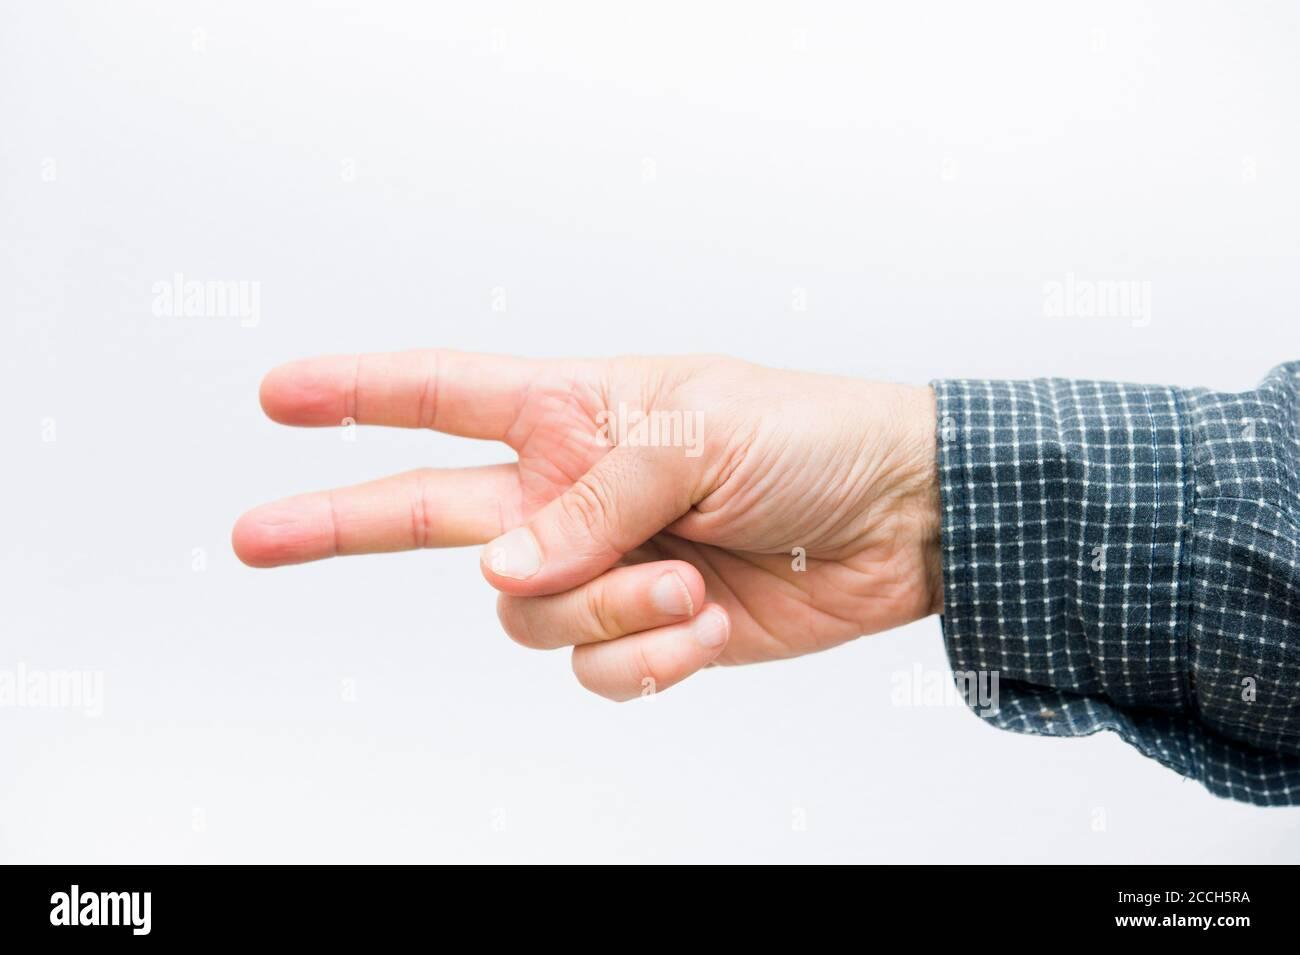scissors: (234, 334, 926, 717)
